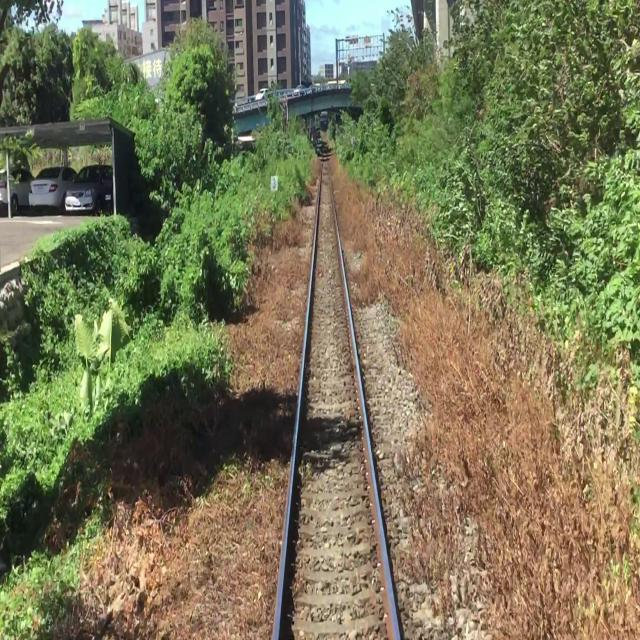rail-track: (290, 168, 386, 640)
